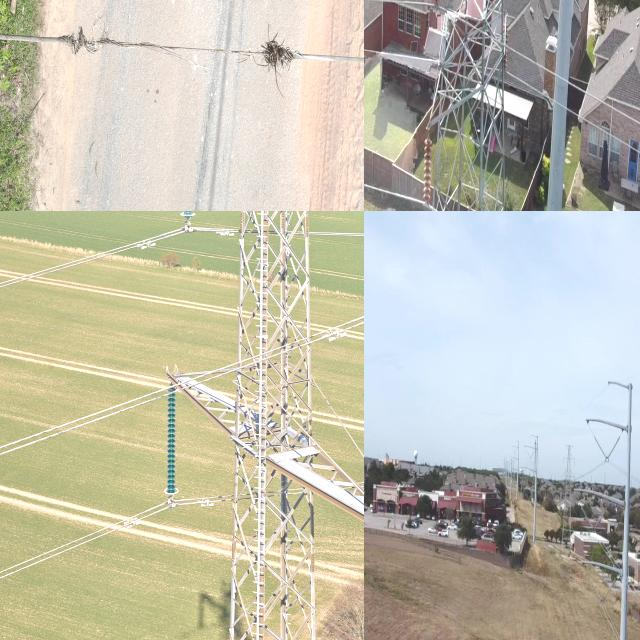杆塔: (233, 211, 329, 640), (424, 0, 511, 211), (560, 442, 578, 559)
正常电缆: (517, 71, 640, 159), (520, 47, 640, 130), (364, 38, 427, 69)
正常绝缘子: (164, 383, 183, 503), (422, 128, 436, 206), (604, 435, 622, 462), (593, 435, 610, 462)
电缆破损: (51, 9, 307, 97)
